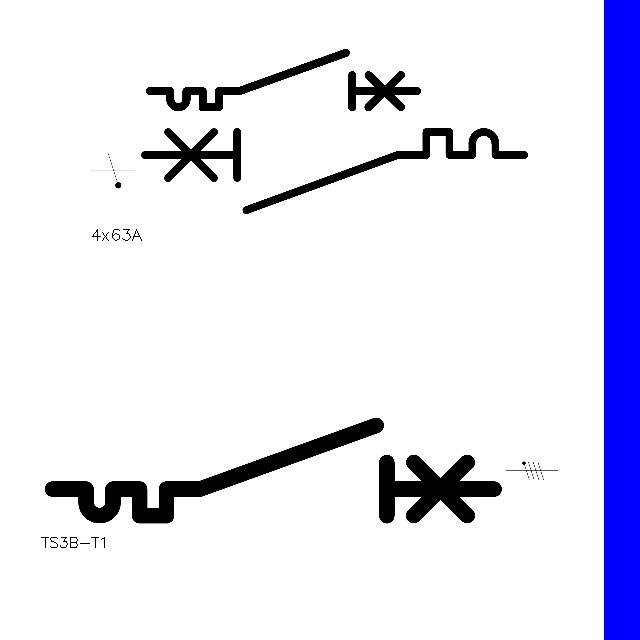interruptor_termomagnetico: (41, 414, 505, 527), (135, 122, 534, 219), (143, 46, 423, 114)
